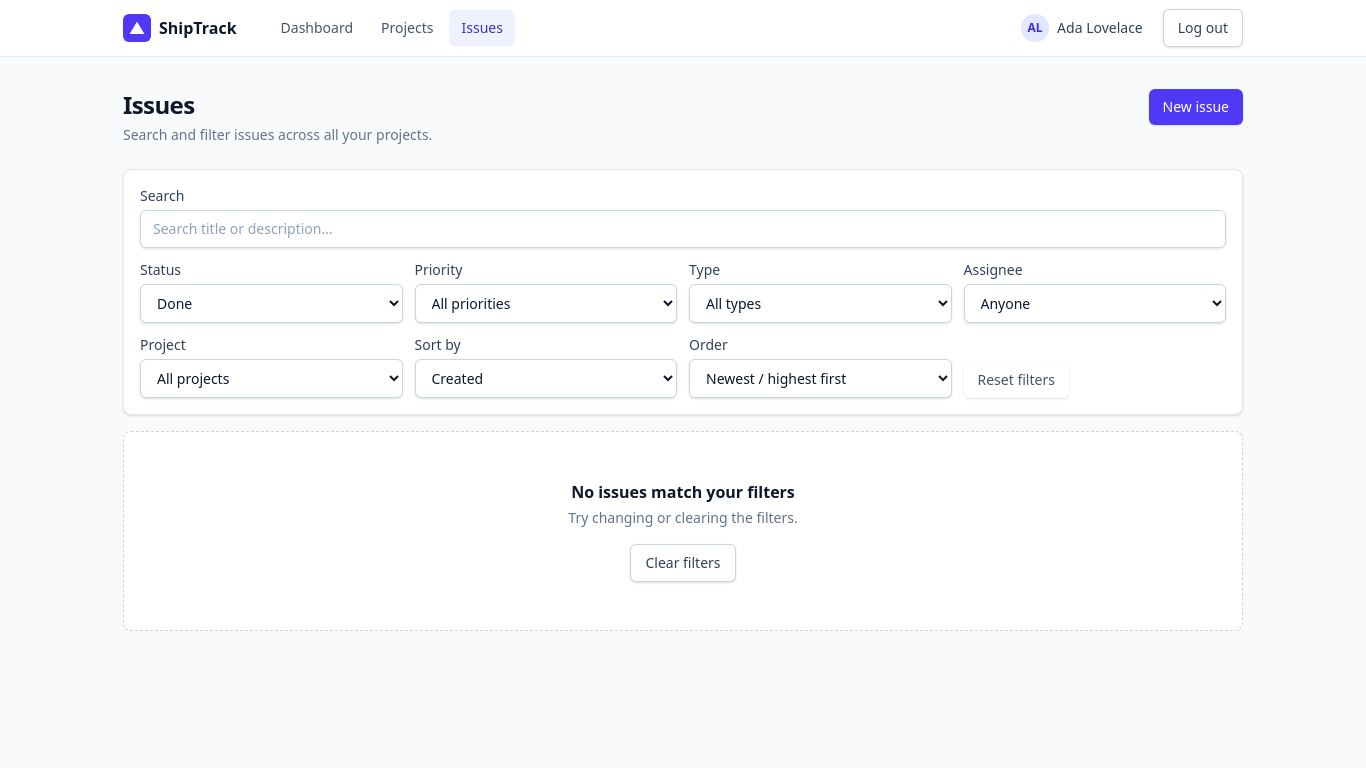
Test: issues list › shows an empty state with a way to clear filters
The width and height of the screenshot is (1366, 768).
Expected: the heading "No issues match your filters" is shown, [571,481,795,503]
Click the button "Clear filters". click: (683,563)
box: [630,544,736,582]
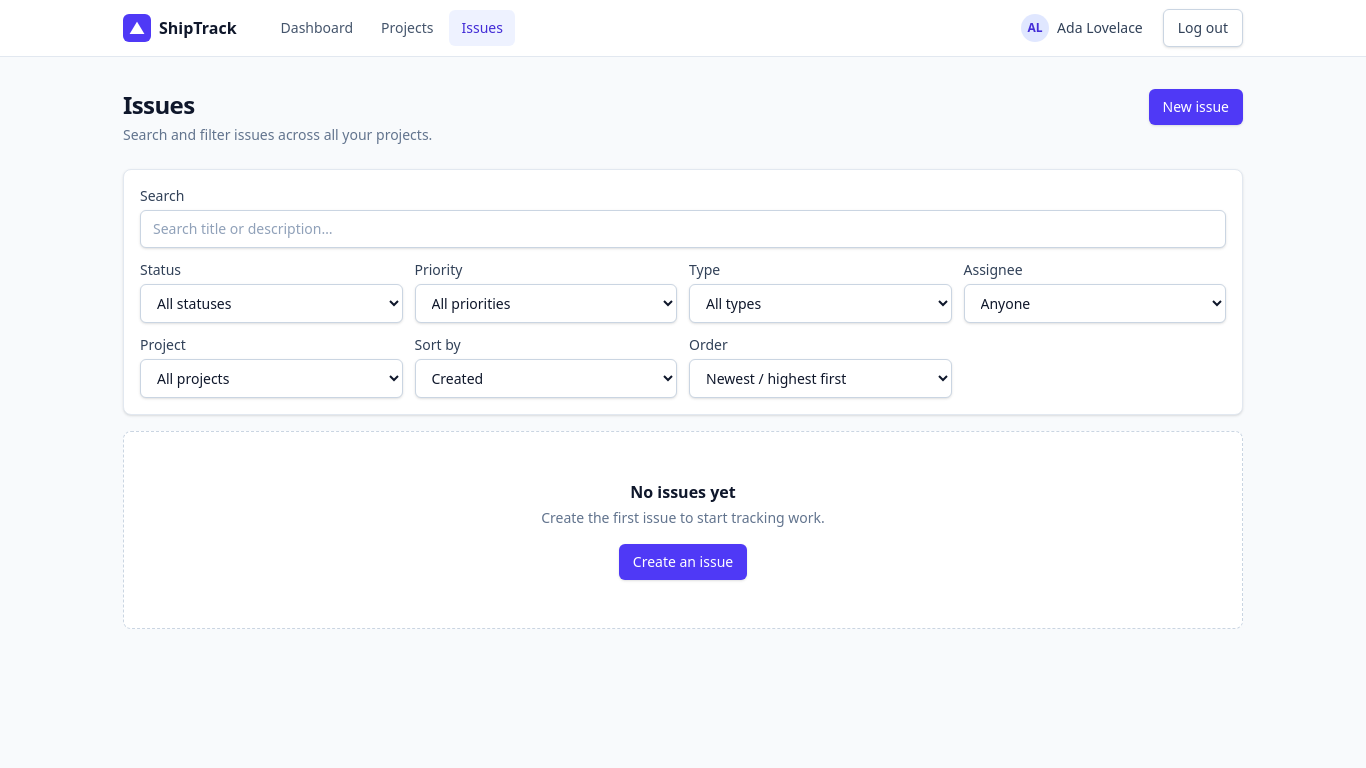
Expected: the heading "No issues yet" is shown, [630,481,736,503]
